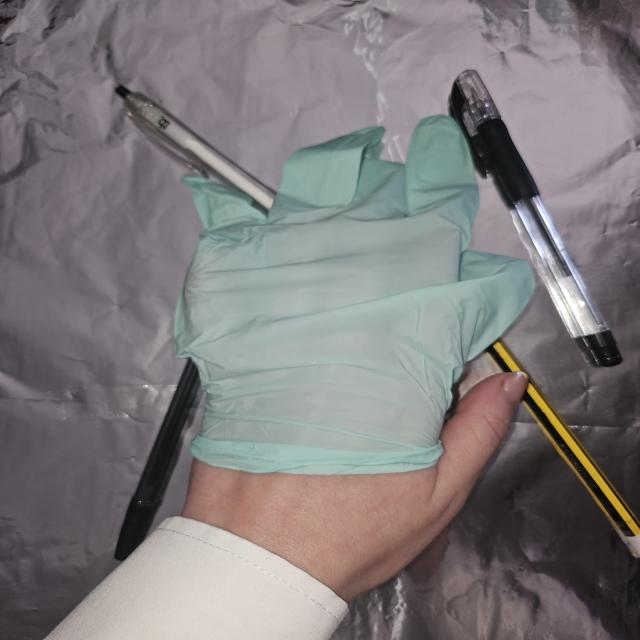glove_partial: (173, 116, 537, 607)
